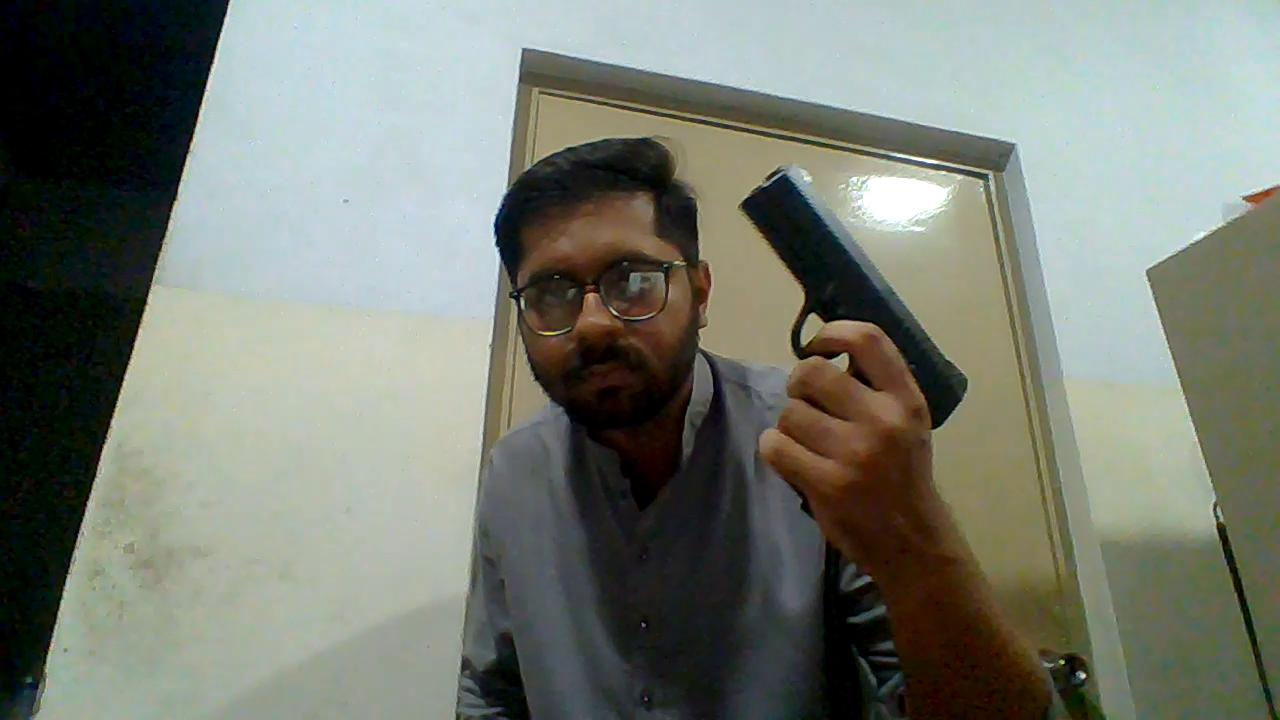criminal: (454, 136, 1077, 720)
weapon: (737, 164, 969, 432)
